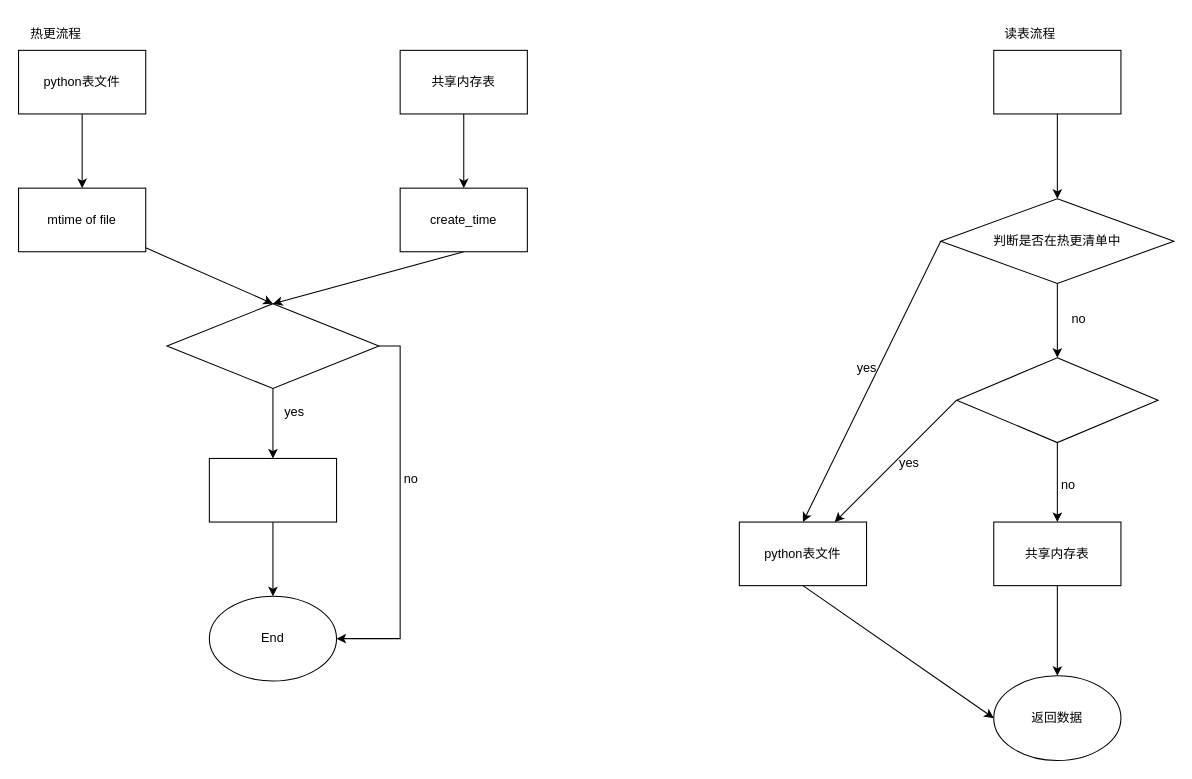
Image size: 1192x779. Some labels were removed from this diagram. Each missing label, with the centre of its shape:
mt > create_time?: point (1057, 400)
mt_time > create_time?: point (272, 345)
添加到热更清单中: point (272, 489)
读表: point (1057, 81)
